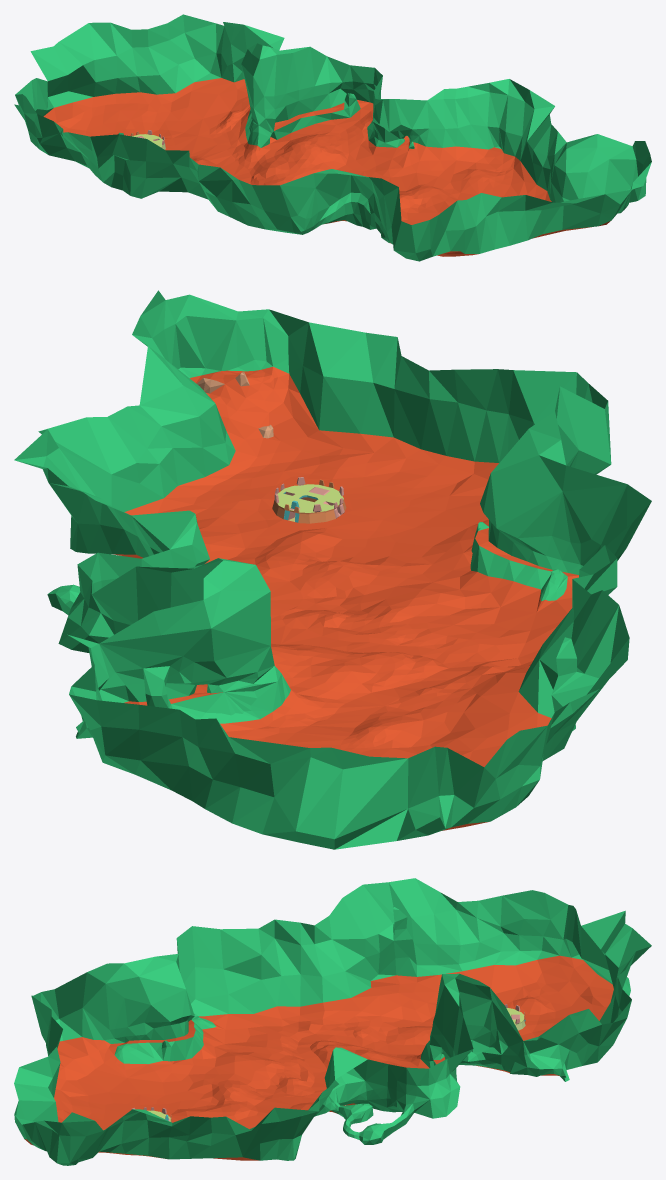
Rendered from level_collision.fbx.
The picture shows the model from 3 angles, top to bottom: view 1: azimuth 30°, elevation 25°; view 2: azimuth 150°, elevation 25°; view 3: azimuth 270°, elevation 25°; orthographic projection. The views are drawn at different scales.
Parts seen in each view (by area): view 1: level_collision; view 2: level_collision; view 3: level_collision.
Boxes of the visible parts, x1,y1,x2,y2 form: level_collision: [14, 14, 651, 261]; level_collision: [14, 290, 651, 849]; level_collision: [14, 878, 651, 1165].
Size of the model in its own units: 1259953 by 265821 by 1451624.
